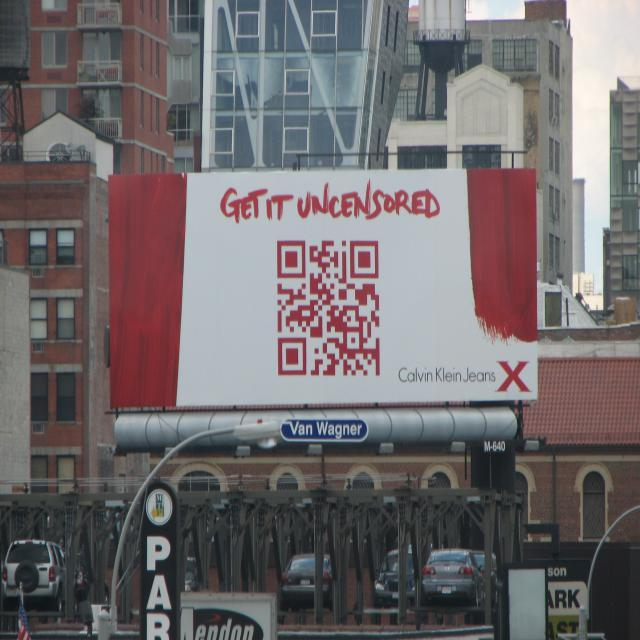qrcode: (278, 242, 381, 376)
